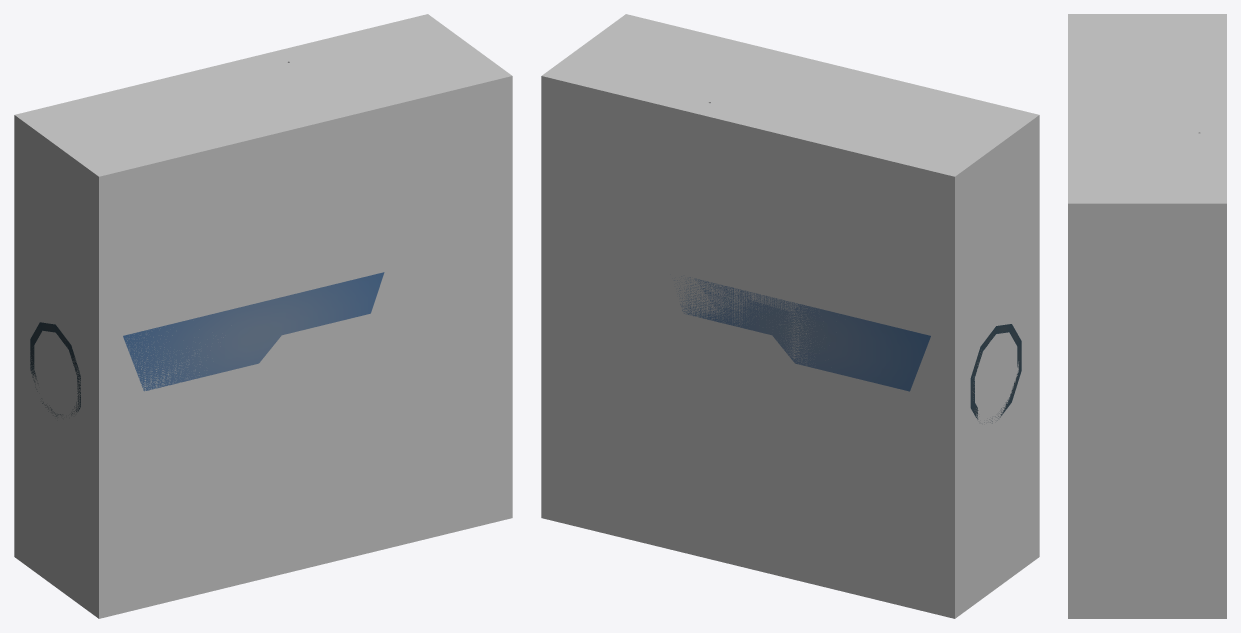
The model's file is SM_Camera_01.fbx.
The picture shows the model from 3 angles, left to right: view 1: azimuth 30°, elevation 25°; view 2: azimuth 150°, elevation 25°; view 3: azimuth 270°, elevation 25°; orthographic projection. The views are drawn at different scales.
Parts seen in each view (by area): view 1: SM_Camera_01_ConvexHulls, SM_Camera_01; view 2: SM_Camera_01_ConvexHulls, SM_Camera_01; view 3: SM_Camera_01_ConvexHulls.
Part boxes in pixels (<box>): SM_Camera_01_ConvexHulls: <box>14,14,512,618</box>; SM_Camera_01: <box>30,61,384,416</box>; SM_Camera_01_ConvexHulls: <box>541,14,1039,618</box>; SM_Camera_01: <box>674,102,1021,423</box>; SM_Camera_01_ConvexHulls: <box>1068,14,1226,618</box>.
Bounding box in the file's own units: 197 × 69.74 × 201.
2 materials, 1 textured.
